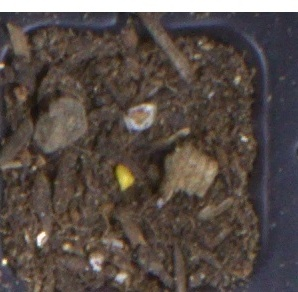chilli seed: (114, 163, 135, 192)
